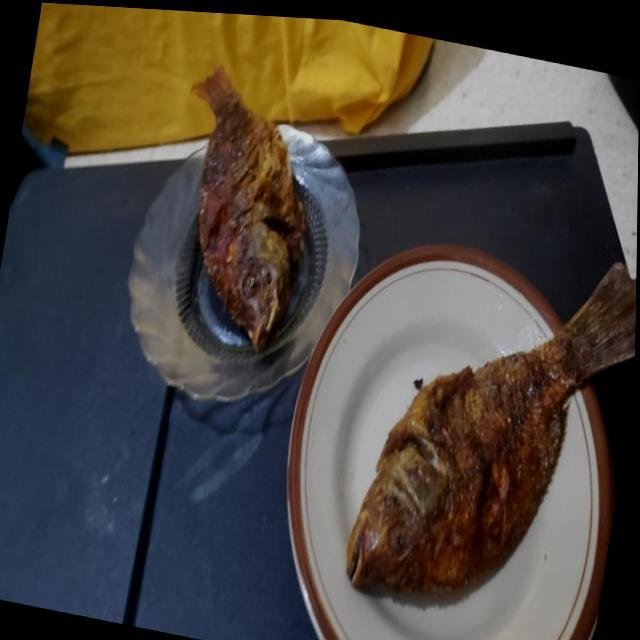ikan_mujair: (346, 263, 636, 594), (192, 68, 304, 348)
